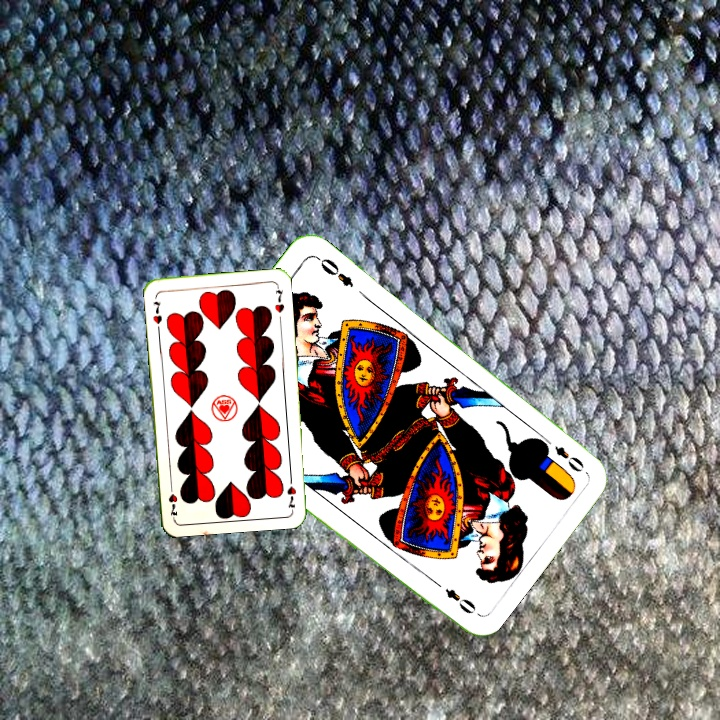EO: (538, 432, 587, 475)
H7: (283, 471, 299, 512), (149, 297, 164, 326)
